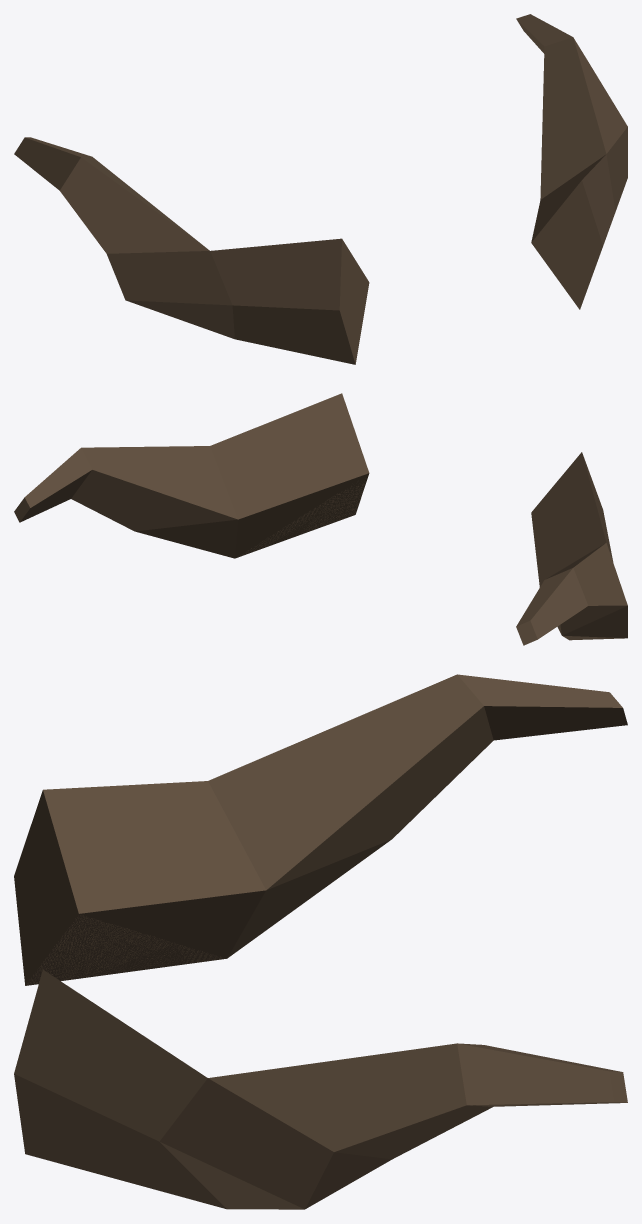
The model's file is Horned_02.fbx.
3 renders of one model, top to bottom at view 1: azimuth 30°, elevation 25°; view 2: azimuth 150°, elevation 25°; view 3: azimuth 270°, elevation 25°, orthographic. The views are drawn at different scales.
Visible parts, largest first — view 1: Horned_02; view 2: Horned_02; view 3: Horned_02.
Part boxes in pixels (x1=…): Horned_02: x1=14, y1=14, x2=627, y2=364; Horned_02: x1=14, y1=393, x2=627, y2=645; Horned_02: x1=14, y1=674, x2=627, y2=1209.
Bounding box in the file's own units: 2528 × 670 × 1655.
